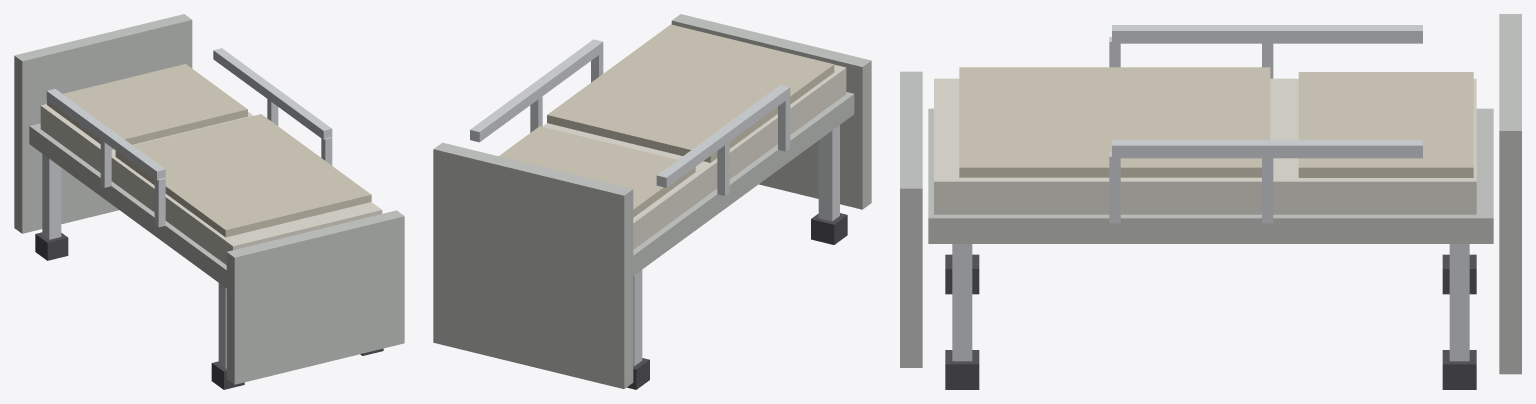
The model's file is mov_40c8ffa6cf.gltf.
3 views of the same model, side by side, from view 1: azimuth 30°, elevation 25°; view 2: azimuth 150°, elevation 25°; view 3: azimuth 270°, elevation 25° (orthographic). The views are drawn at different scales.
Visible parts, largest first — view 1: mov_40c8ffa6cf; view 2: mov_40c8ffa6cf; view 3: mov_40c8ffa6cf.
Boxes of the visible parts, x1=… form: mov_40c8ffa6cf: x1=14, y1=14, x2=404, y2=389; mov_40c8ffa6cf: x1=433, y1=14, x2=871, y2=389; mov_40c8ffa6cf: x1=900, y1=14, x2=1521, y2=389.
Bounding box in the file's own units: 1.01 × 1.02 × 2.2.
